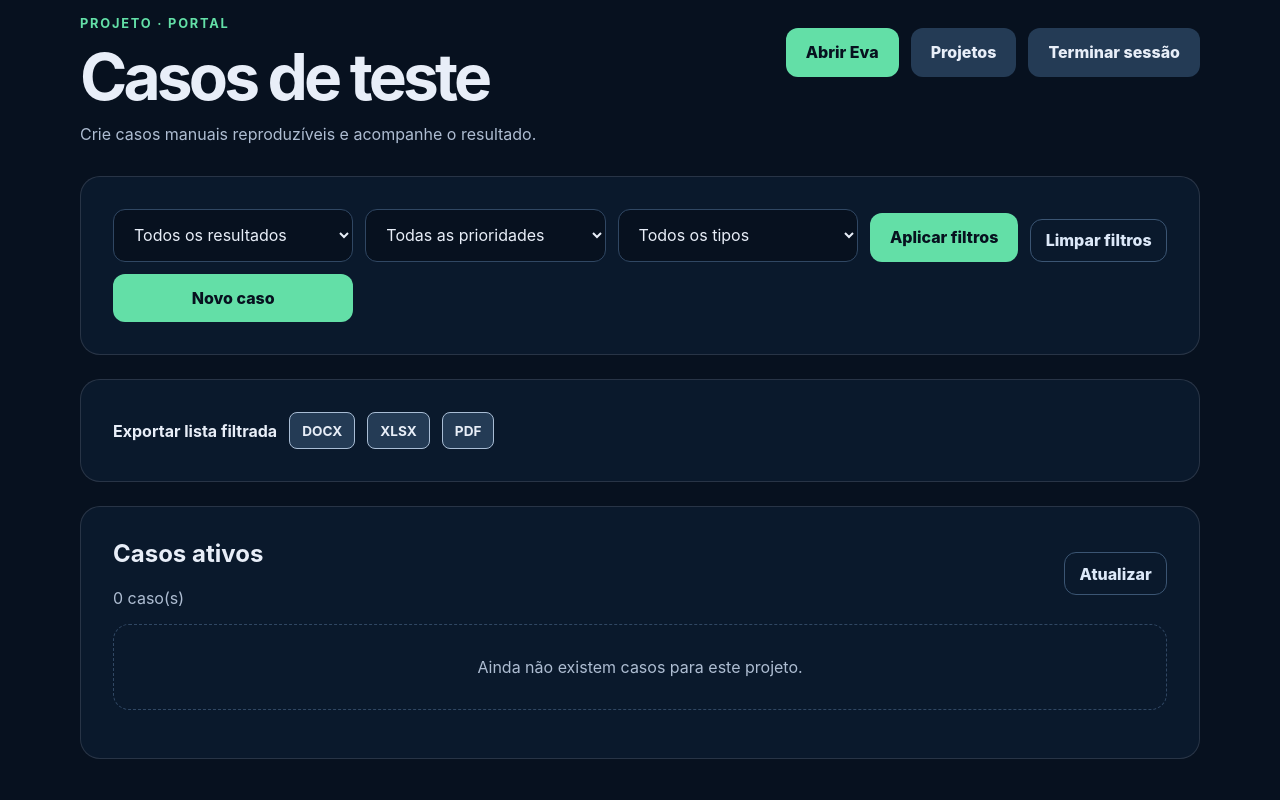
Test: TestCases › applies the selected filters and confirms the result
Expected: the text "Ainda não existem casos para este projeto." is shown, [113,624,1167,710]
Select "Alta" in the dropdown named "Filtrar por prioridade". click: (485, 235)
box: [365,209,606,262]
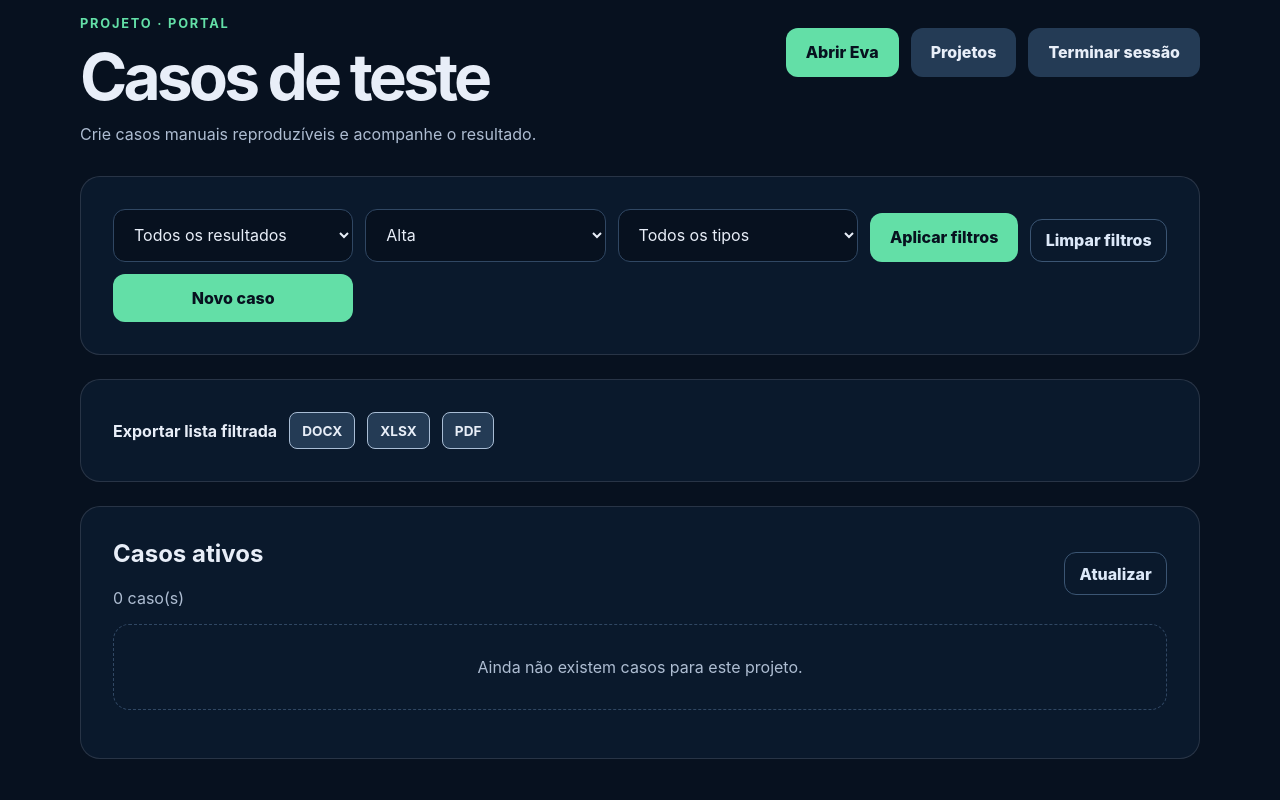
Click the button "Aplicar filtros". click: click(944, 237)
box: [870,213,1018,262]
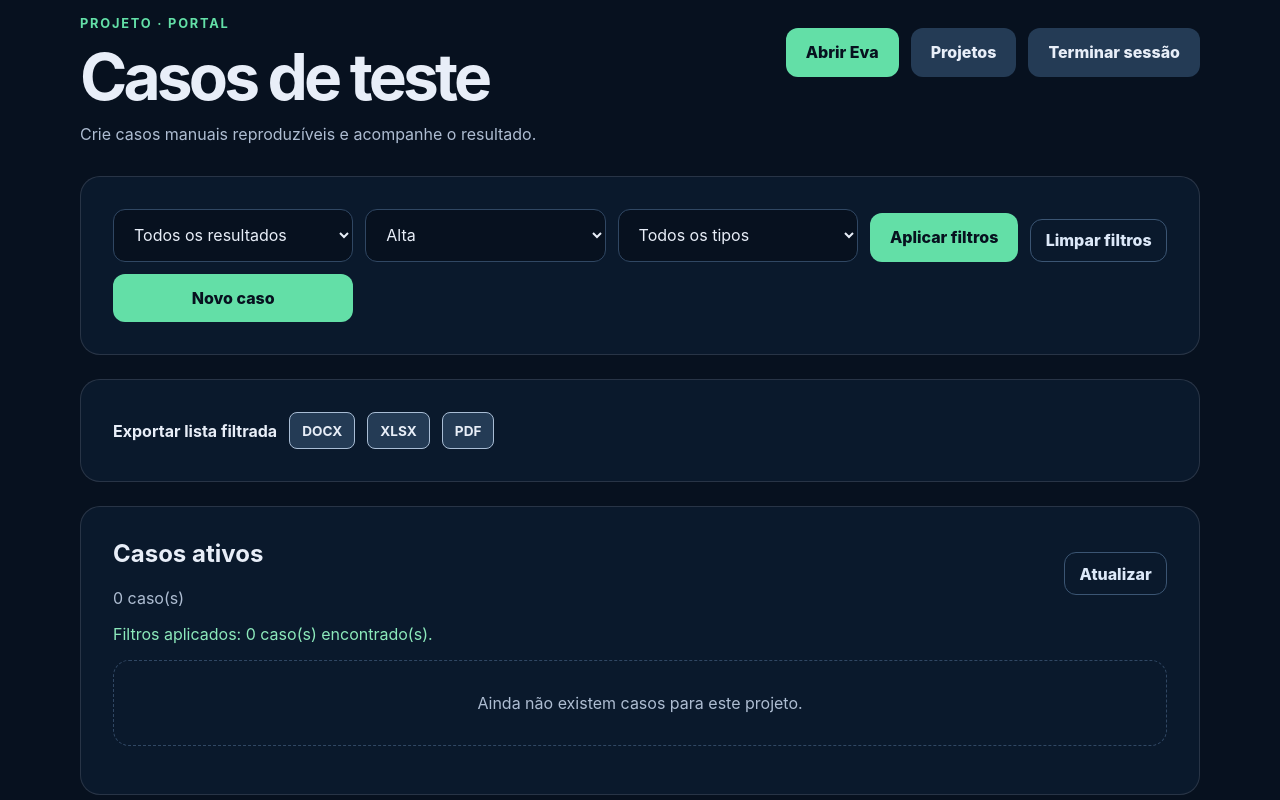
Now the text "Filtros aplicados: 0 caso(s) encontrado(s)." is shown, box [113,624,433,644]
